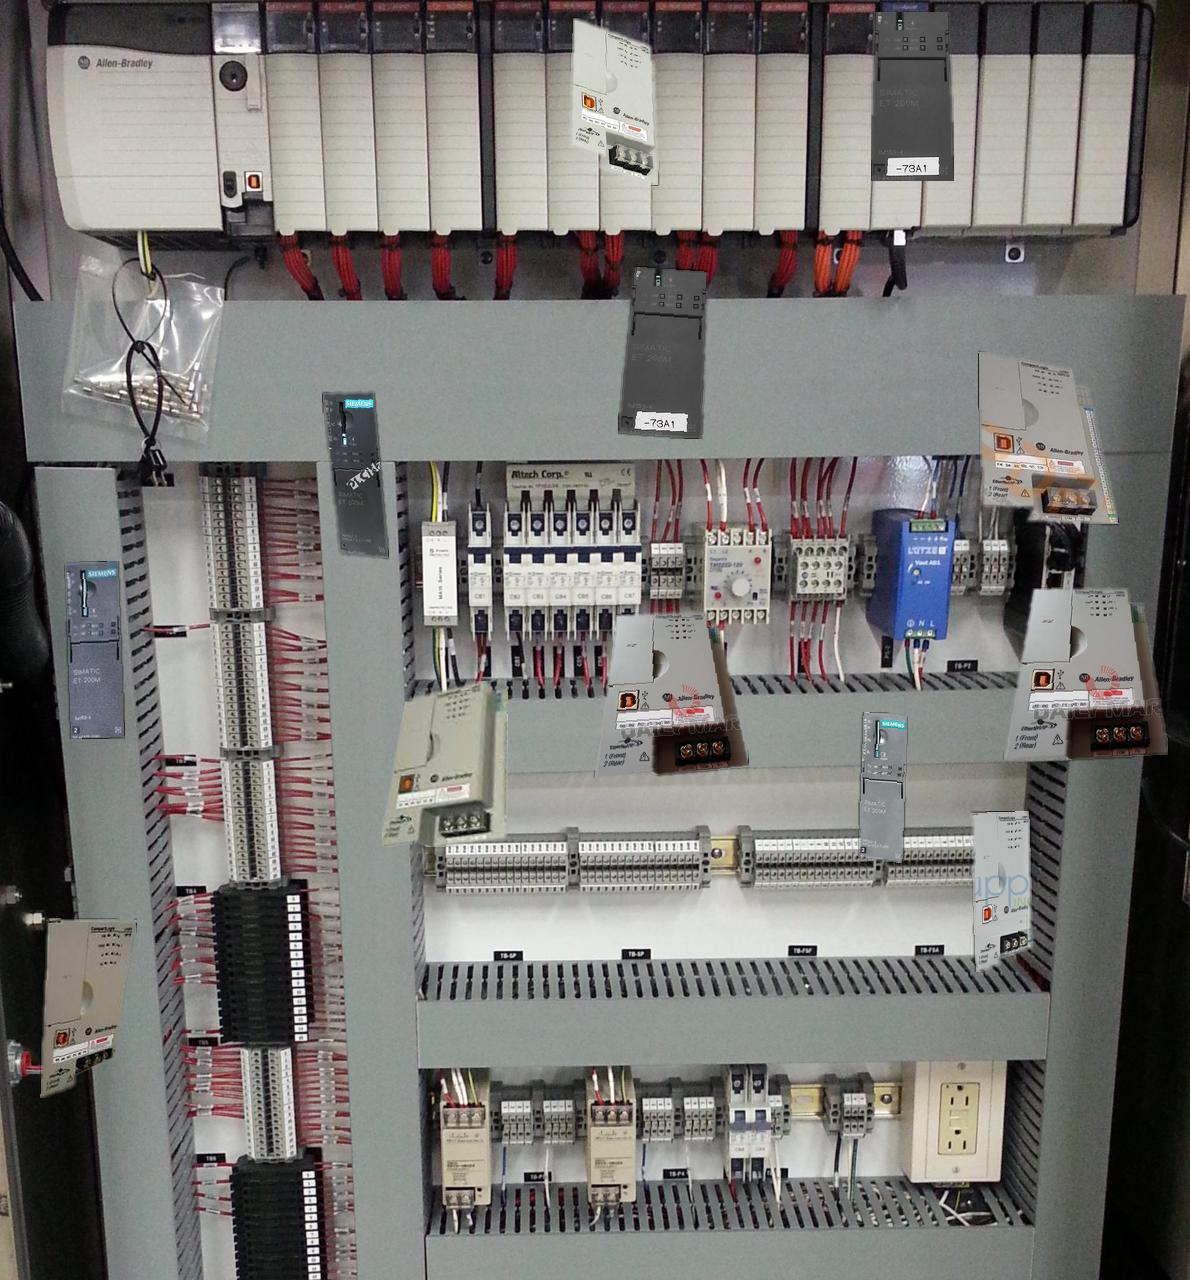AllenBradley: (1004, 588, 1167, 759), (595, 611, 748, 776), (977, 352, 1118, 523), (382, 681, 507, 846), (40, 919, 136, 1097), (570, 18, 657, 184), (972, 810, 1031, 971)
